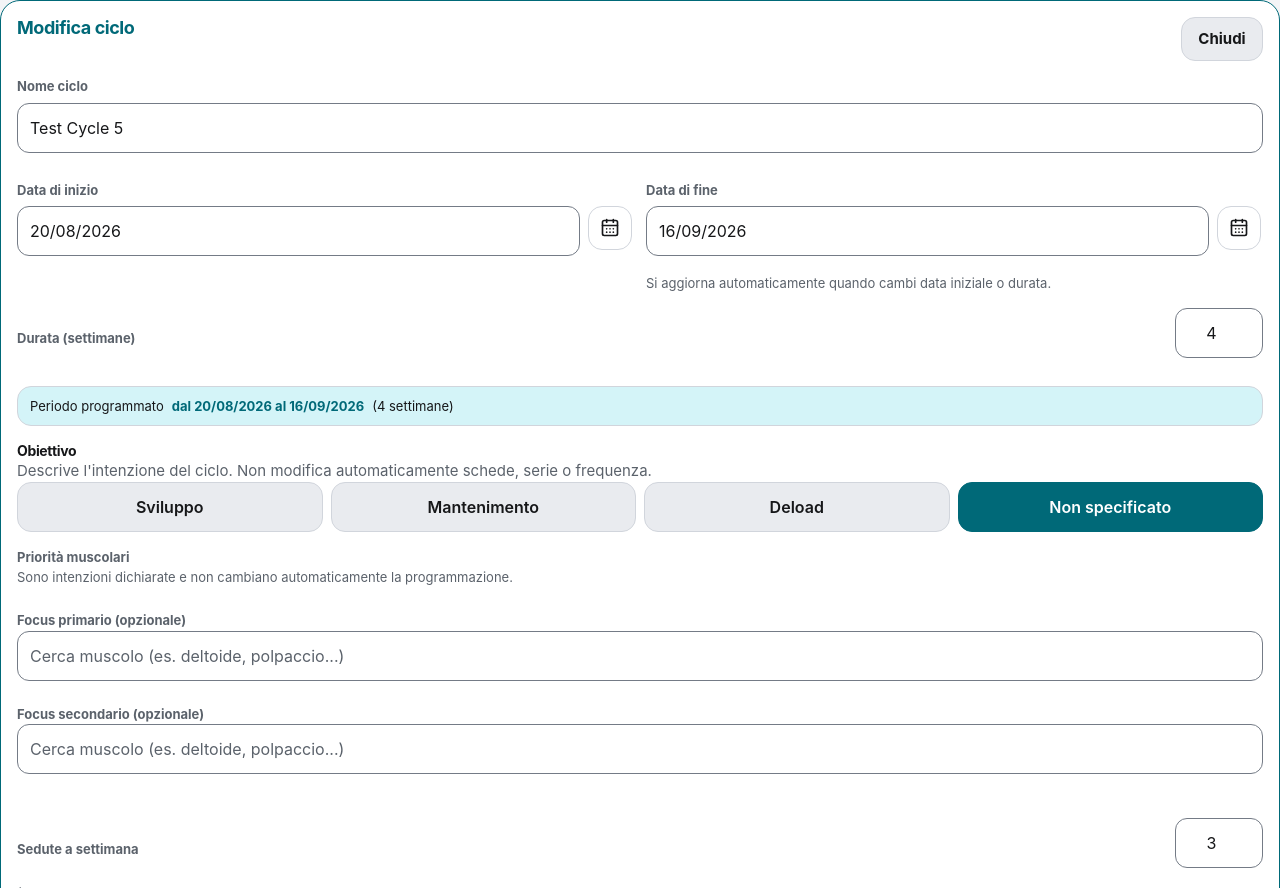
Test: Challenger 2 Empirical Verification: CycleEditor UI & Two-Way Binding › Scenario 5: Calendar picker for Start Date updates text and recalculates End Date
The image size is (1280, 888).
Note: Change start calendar to 2026-10-01
Type "2026-10-01" into the date field labelled "Data di inizio". click: (326, 224)
box: [17, 180, 634, 268]
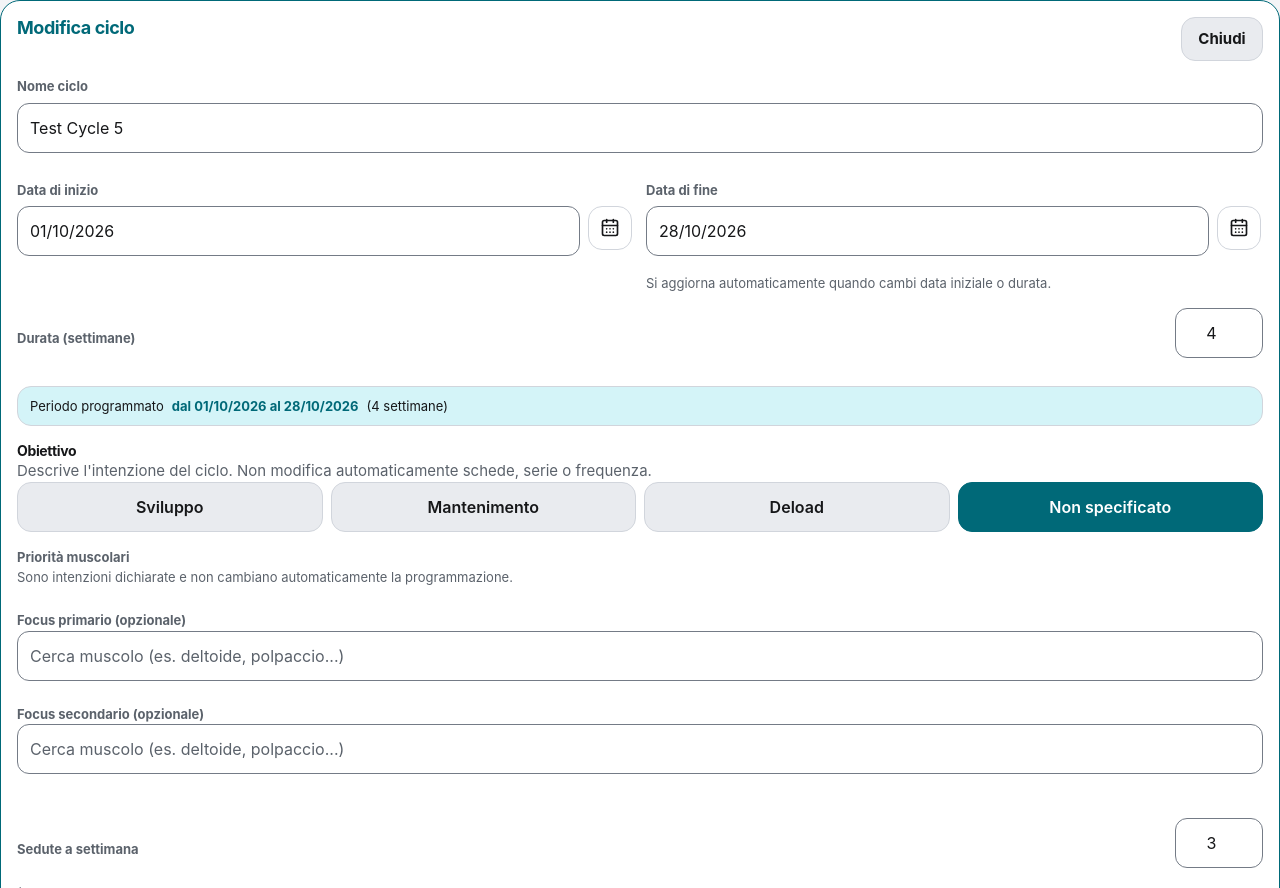
Expected: the field with id "cycle-start-date" holds "01/10/2026", [17, 206, 580, 256]
Expected: the field with id "cycle-end-date" holds "28/10/2026", [646, 206, 1209, 256]
